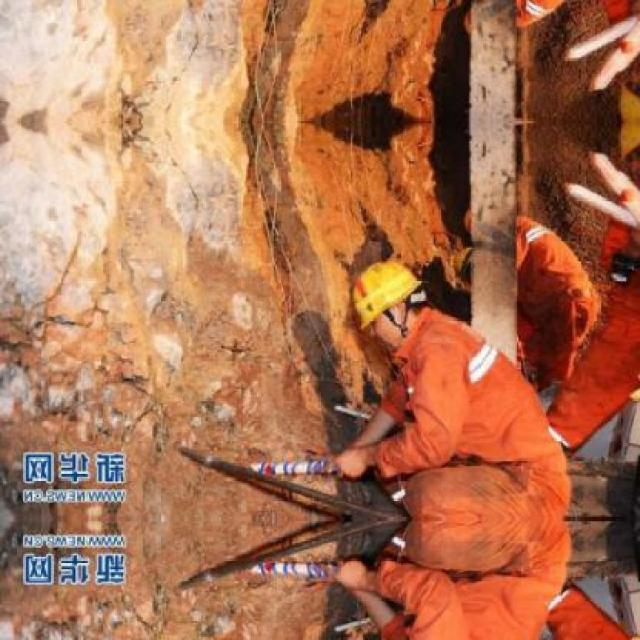Reflective-Jacket: (383, 311, 568, 477)
Safety-Helmet: (332, 254, 434, 335)
